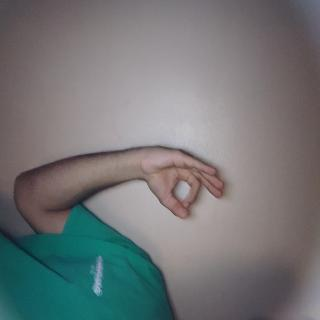Space: (106, 124, 170, 250)
